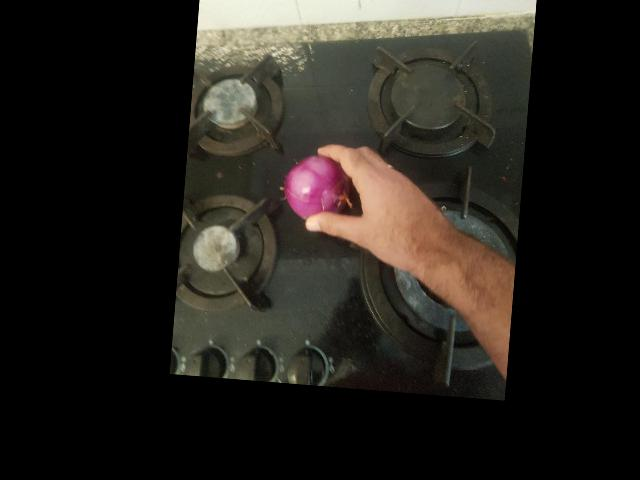onion: (253, 44, 308, 98)
